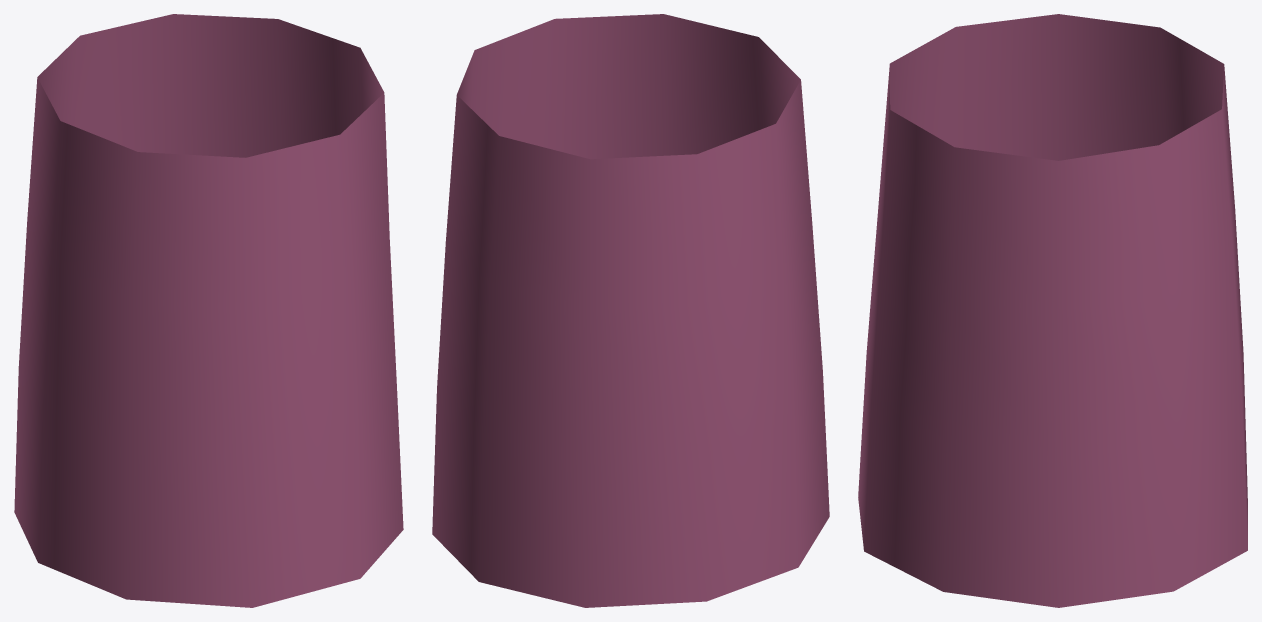
The model's file is princess_outfit_bracer.L.glb.
The picture shows the model from 3 angles, left to right: view 1: azimuth 30°, elevation 25°; view 2: azimuth 150°, elevation 25°; view 3: azimuth 270°, elevation 25°; orthographic projection.
Parts seen in each view (by area): view 1: princess_outfit_bracer.L; view 2: princess_outfit_bracer.L; view 3: princess_outfit_bracer.L.
Part boxes in pixels (x1,y1,x2,y2): princess_outfit_bracer.L: (14,14,403,607); princess_outfit_bracer.L: (432,14,829,607); princess_outfit_bracer.L: (858,14,1247,607).
Bounding box in the file's own units: 0.1277 × 0.1562 × 0.126.
